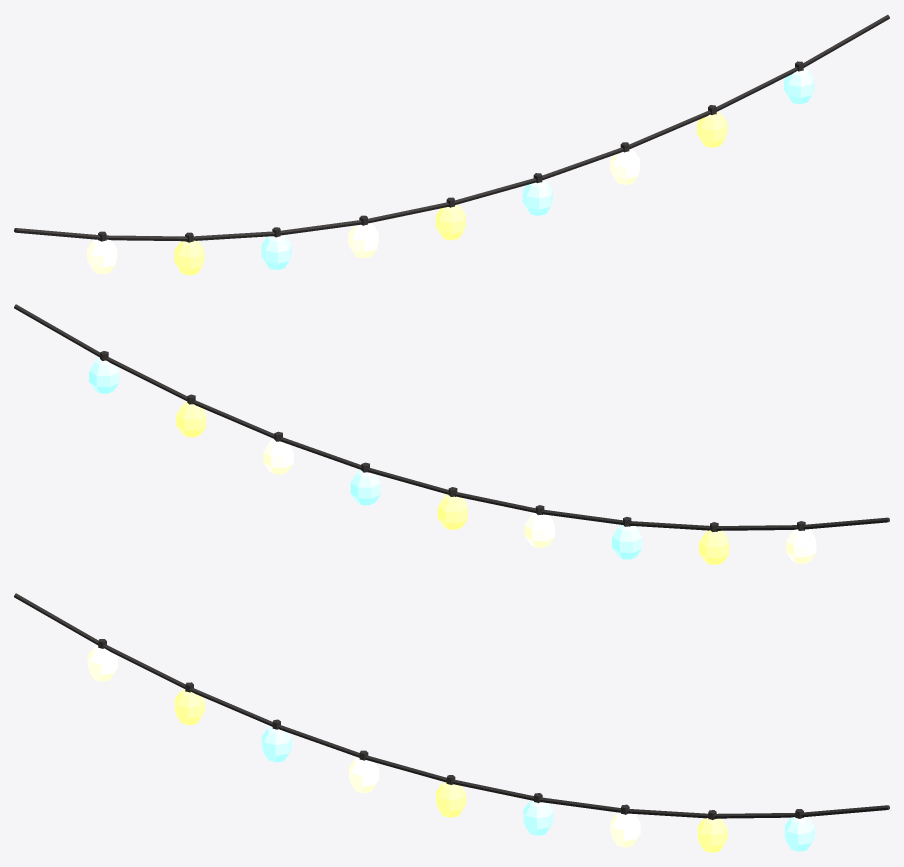
Rendered from string_lights.glb.
3 renders of one model, top to bottom at view 1: azimuth 30°, elevation 25°; view 2: azimuth 150°, elevation 25°; view 3: azimuth 330°, elevation 25°, orthographic.
Visible parts, largest first — view 1: string_lights; view 2: string_lights; view 3: string_lights.
Boxes of the visible parts, bbox=[...] form: string_lights: bbox=[14, 14, 889, 275]; string_lights: bbox=[14, 304, 889, 564]; string_lights: bbox=[14, 593, 889, 852].
Bounding box in the file's own units: 4.01 × 0.5205 × 0.1175.
